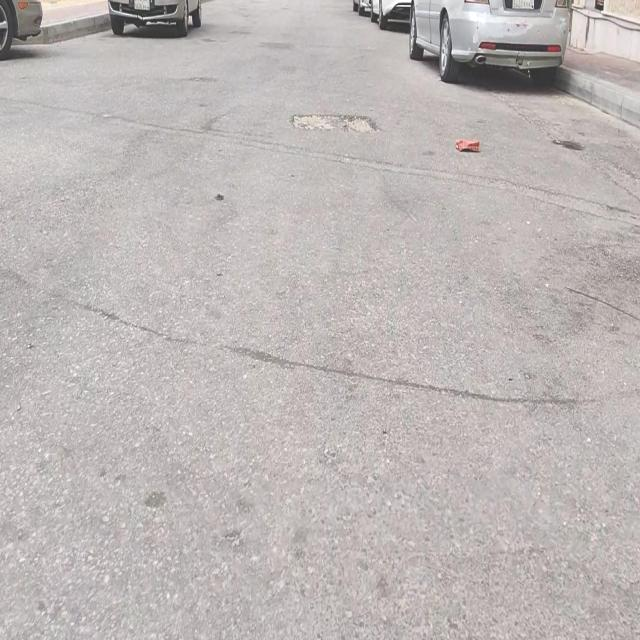Potholes: (292, 112, 380, 133)
